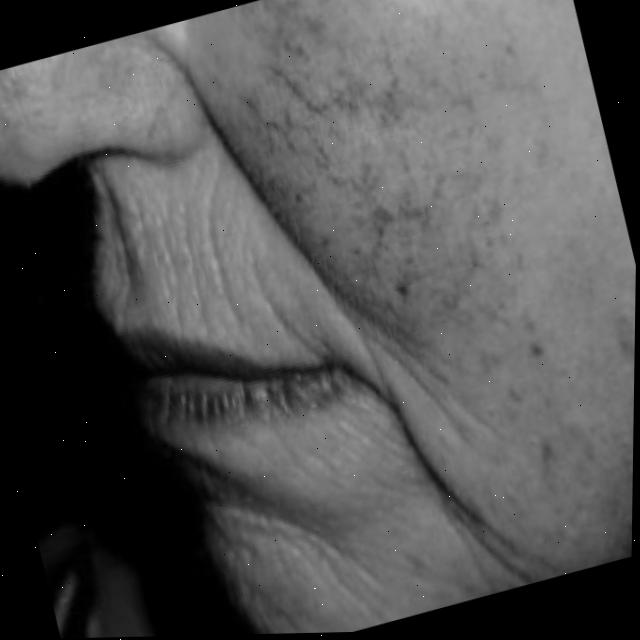Rosacea: (246, 0, 532, 341)
